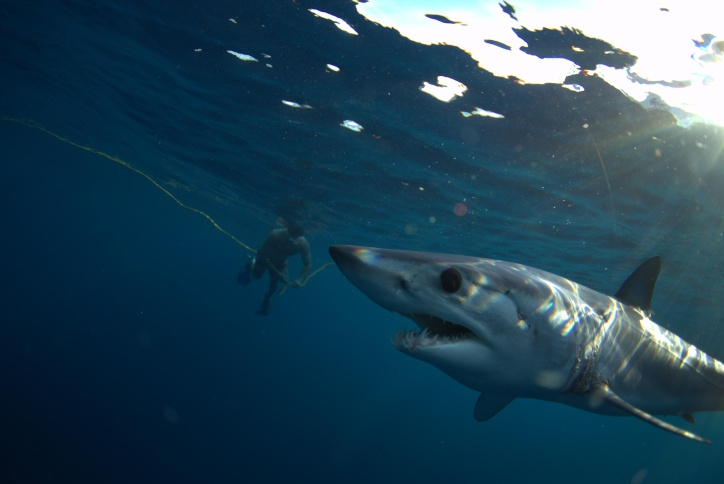Mako: (308, 225, 724, 454)
